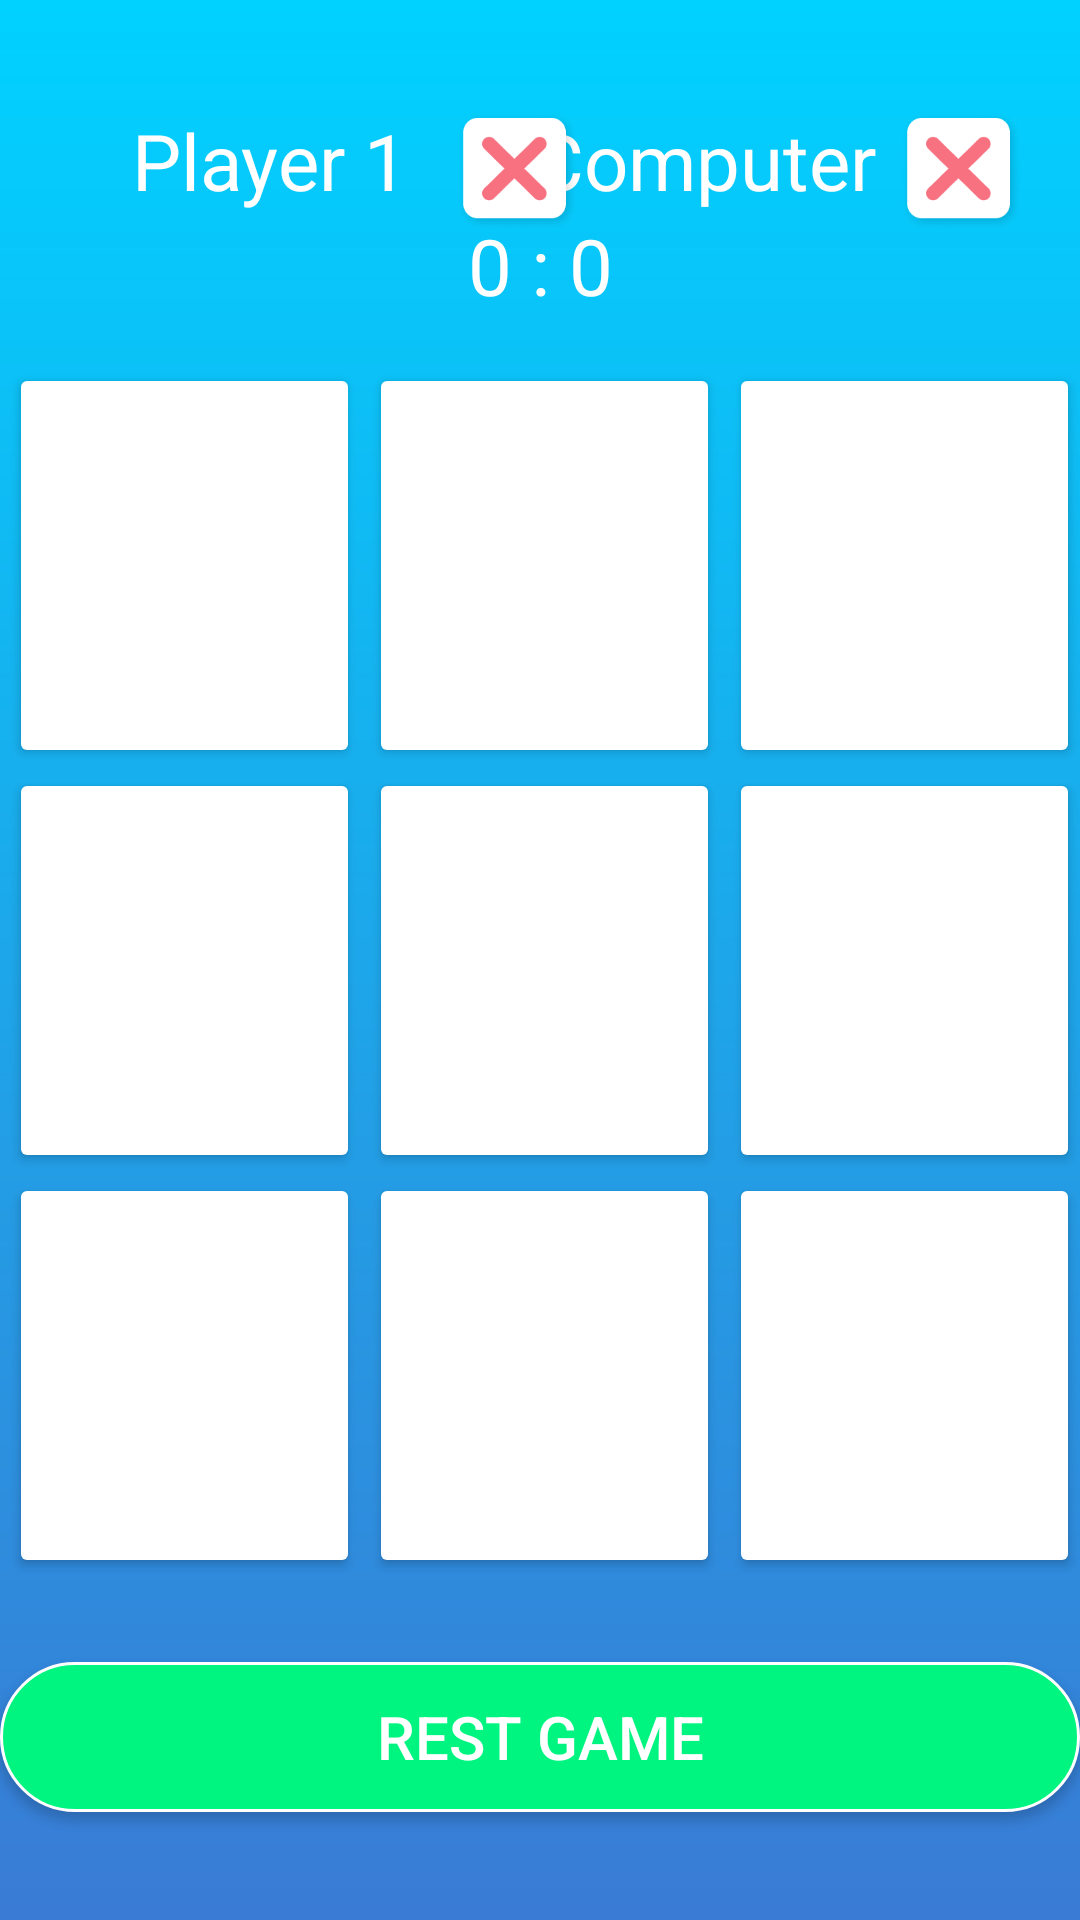

Screen size 1080×1920. Icon name, then its center in pixels as point (x, y):
groupx: point (521, 169), point (959, 169)
